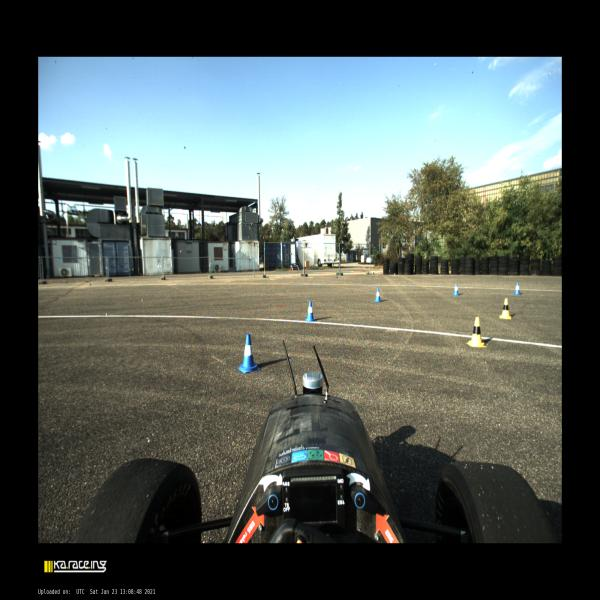blue_cone: (238, 333, 261, 373), (305, 300, 316, 322), (513, 282, 522, 295), (452, 282, 460, 296), (374, 288, 381, 302)
yellow_cone: (466, 316, 487, 348), (500, 298, 512, 319)
